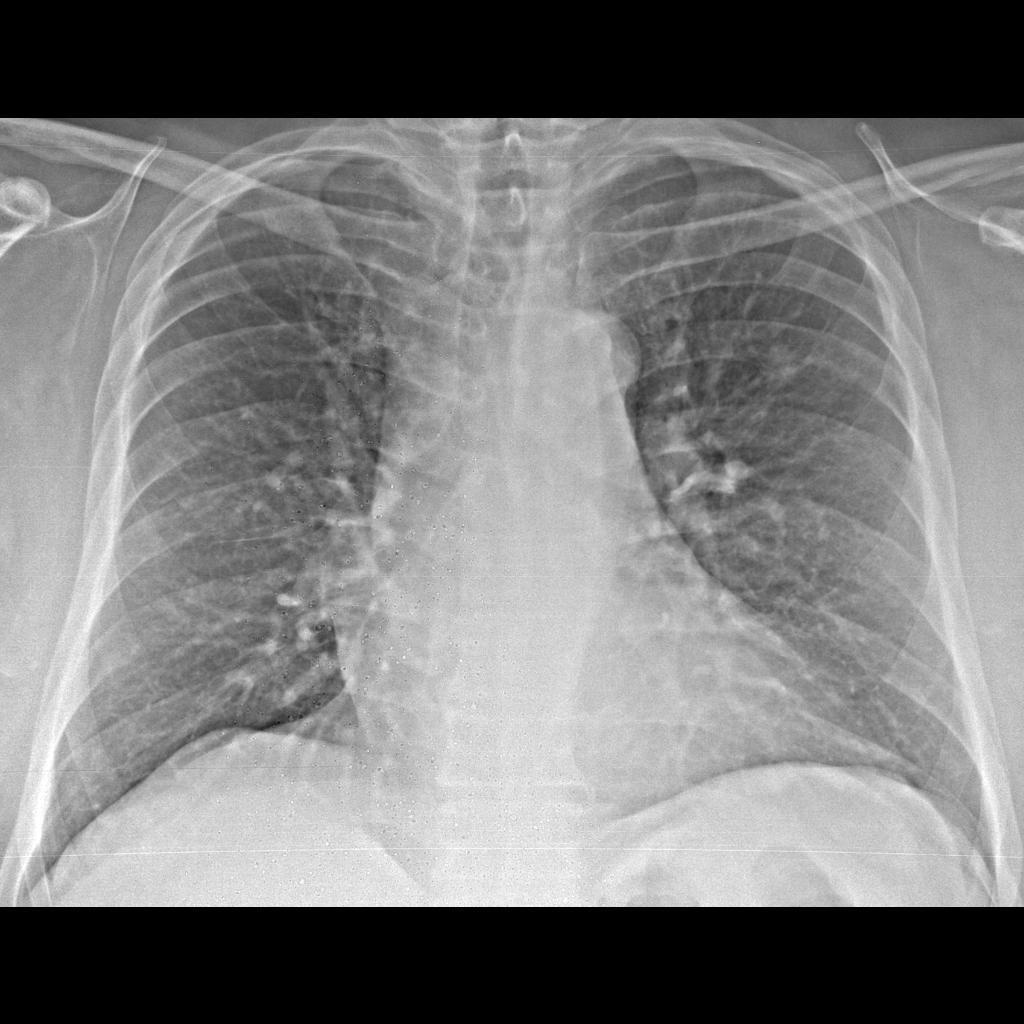Nodule: (746, 334, 812, 401)
